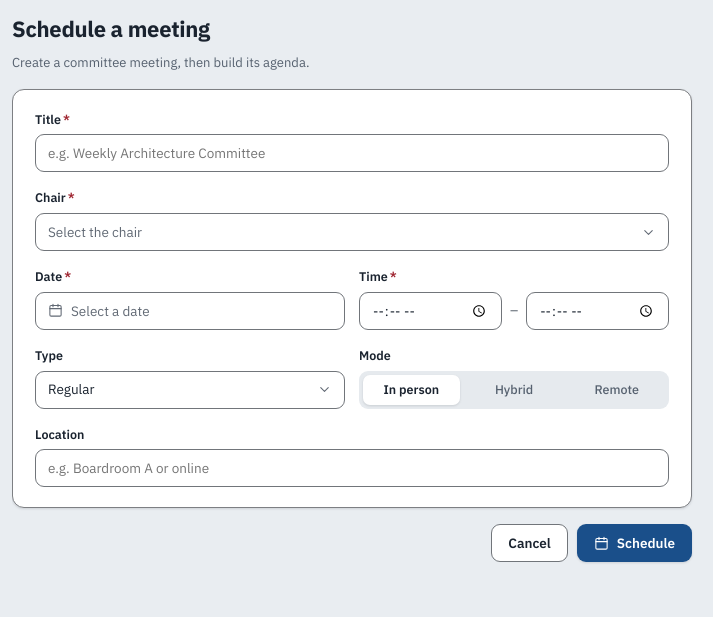
Test: SchedulePage (P6 / PR-B) › flags the chair when the list resolved but holds no chair to select (DEF-028)
This screenshot has width=713, height=617.
Type "Q2 review" into the field labelled "Title*".
click(352, 153); type("Q2 review")  # box [35,134,669,172]
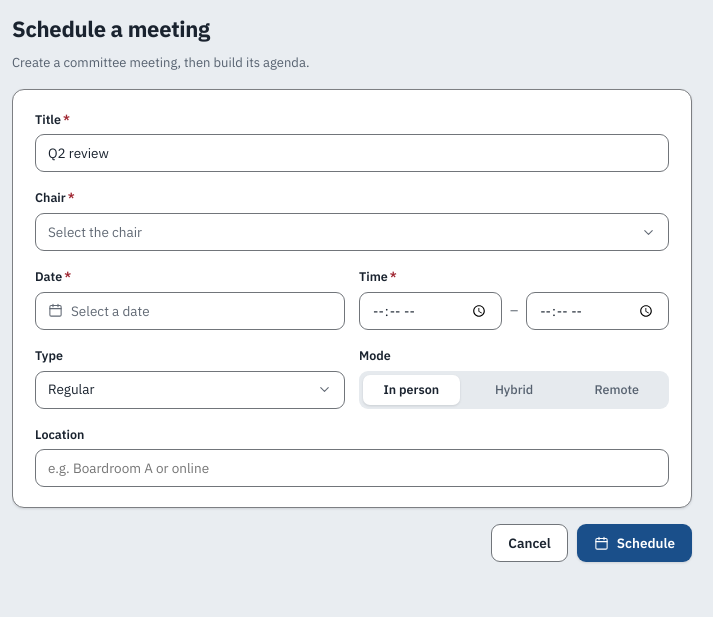
Click the button "Select a date".
click(110, 311)  # box [35,292,345,330]
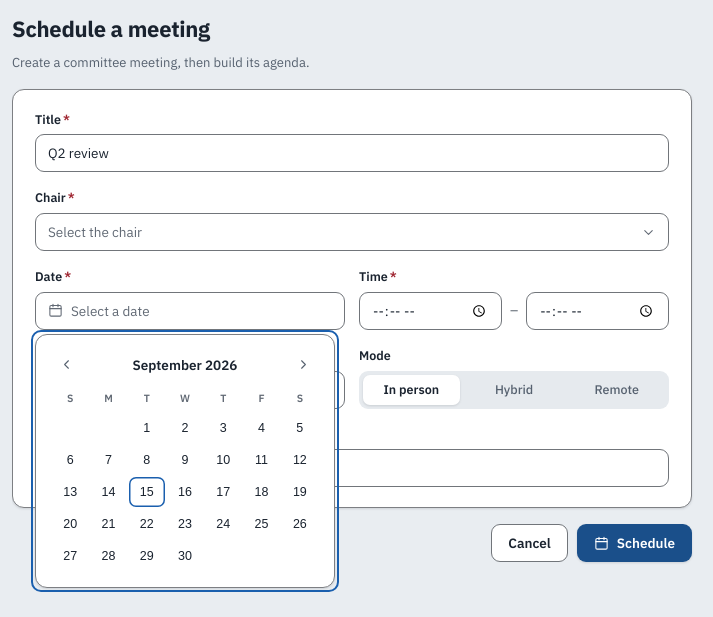
Click the cell "15".
click(147, 492)  # box [129,476,165,506]
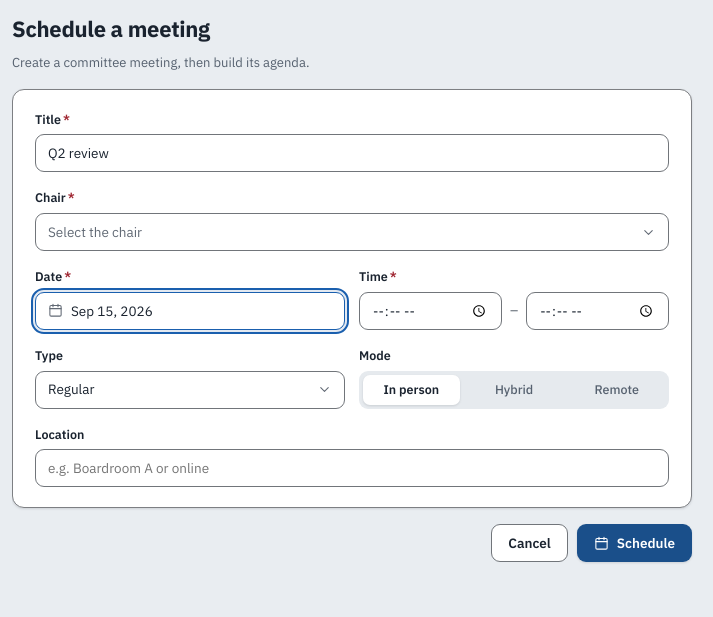
Type "09:00" into the time field named "Start time".
click(430, 311); type("09:00")  # box [359,292,502,330]
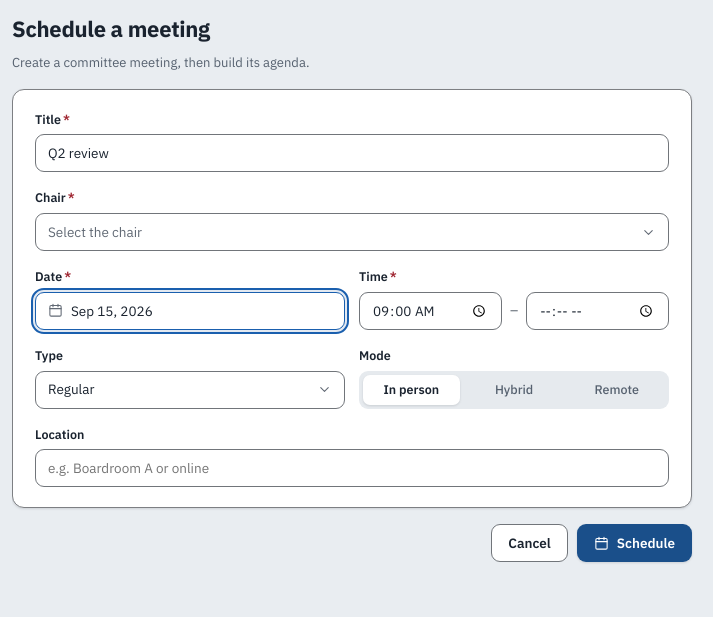
Type "10:30" into the time field named "End time".
click(598, 311); type("10:30")  # box [526,292,669,330]
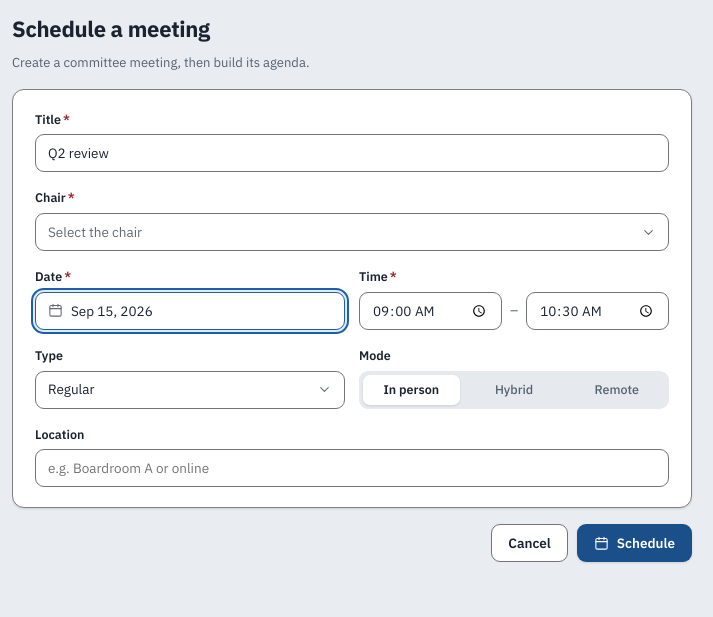
Click the button "Schedule".
click(634, 543)  # box [577,524,692,562]
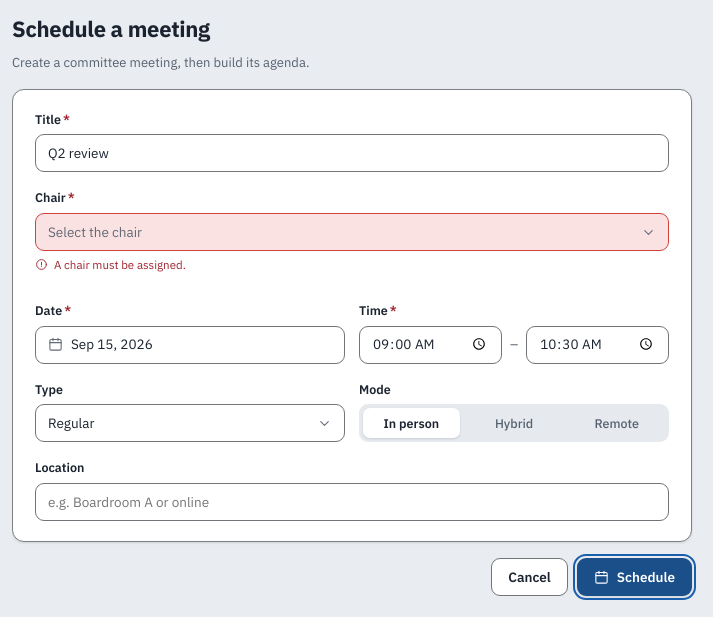
Expected: the text "A chair must be assigned." is shown, [35,257,186,272]
